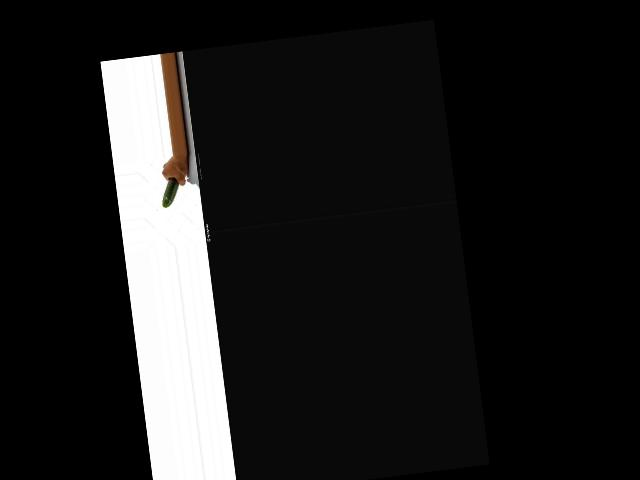cucumber: (159, 176, 181, 207)
